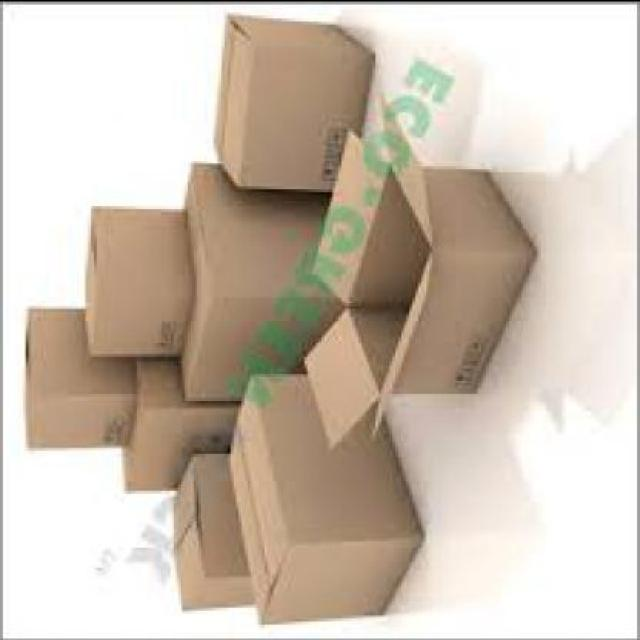CARDBOARD: (293, 93, 538, 444), (227, 368, 424, 620), (182, 158, 336, 398), (214, 9, 378, 188), (79, 199, 193, 356), (114, 356, 241, 490), (20, 304, 134, 447), (170, 443, 253, 606)
